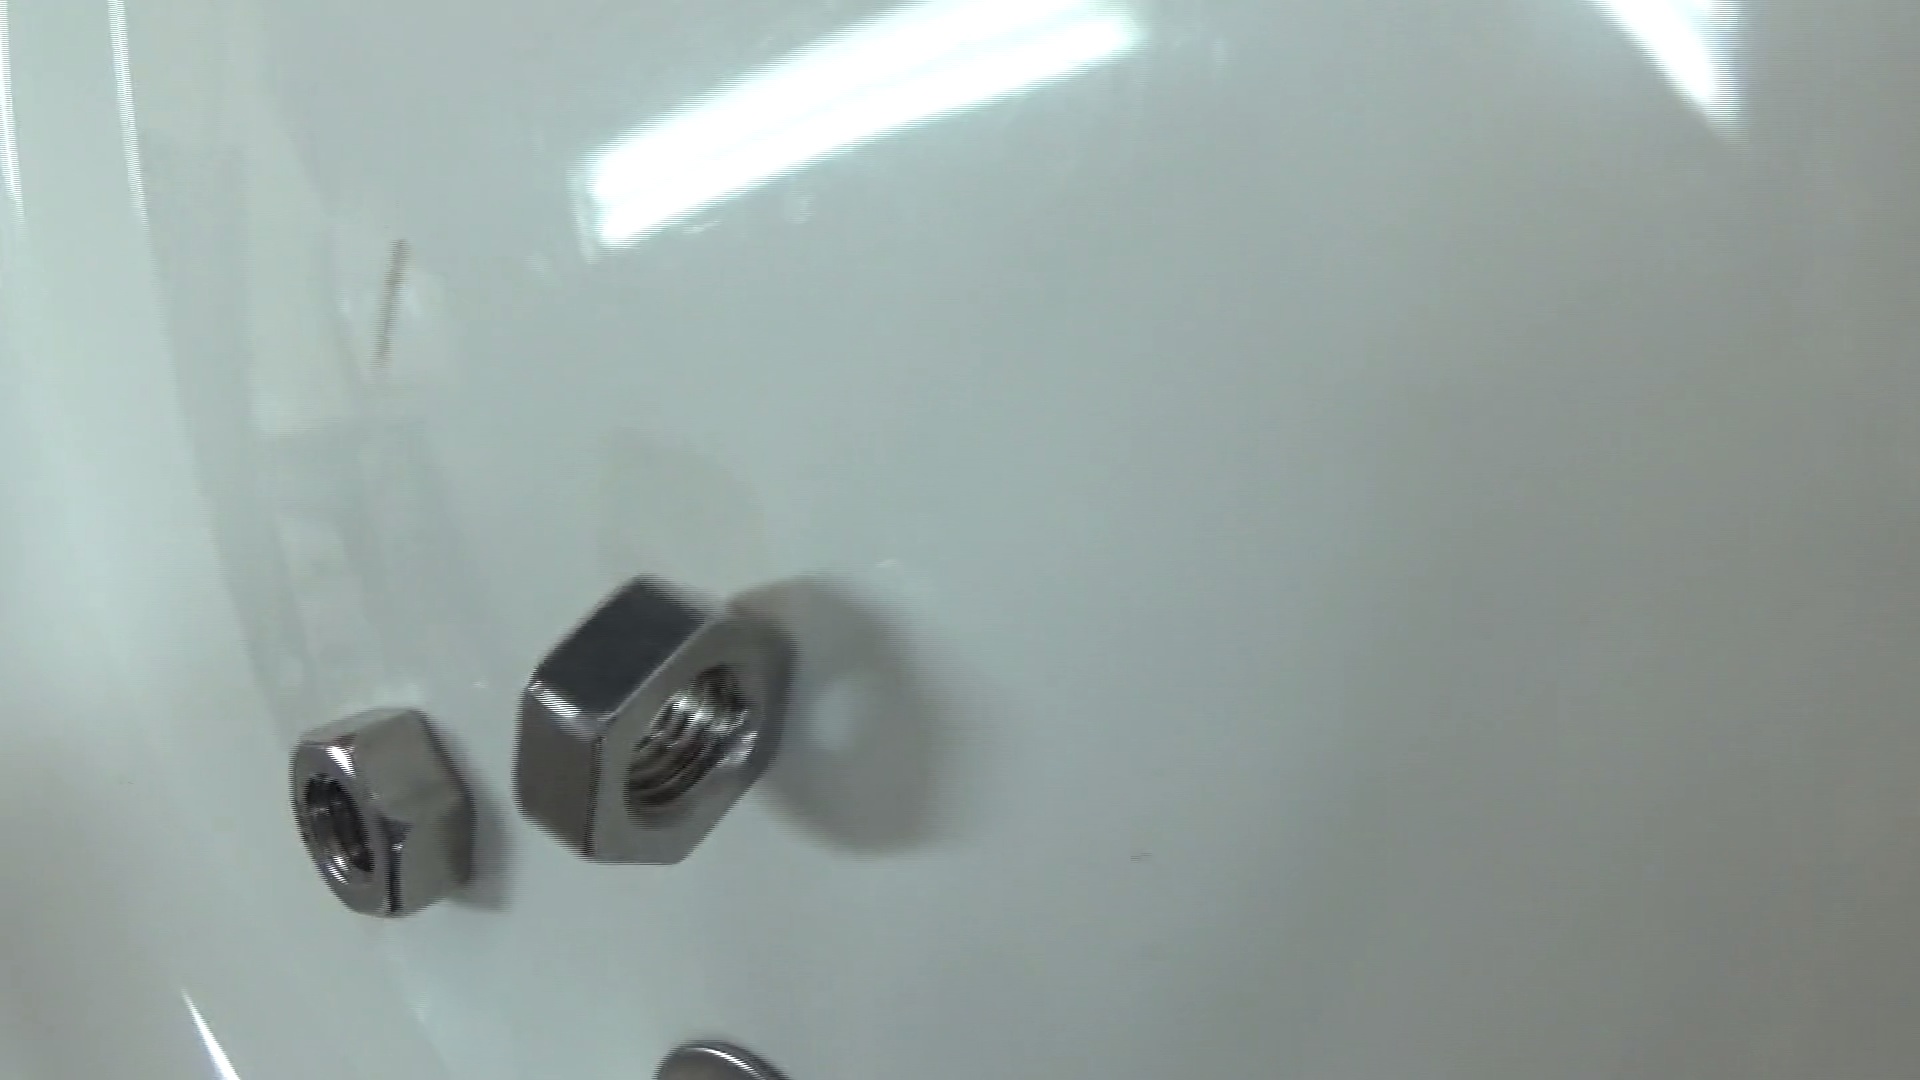nut: (513, 566, 793, 869), (287, 705, 479, 918)
washer: (644, 1035, 793, 1080)
